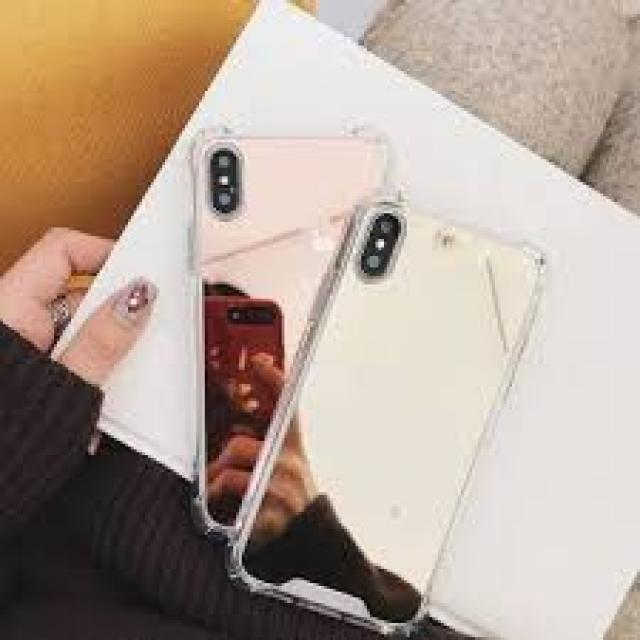Phone: (230, 196, 553, 640), (190, 134, 392, 536)
